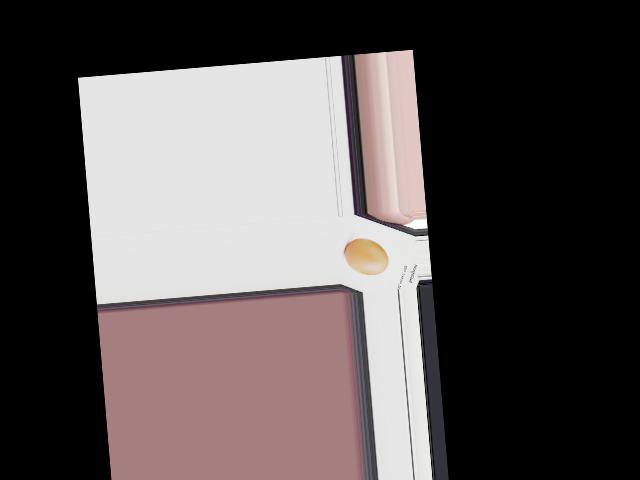egg: (343, 236, 389, 276)
